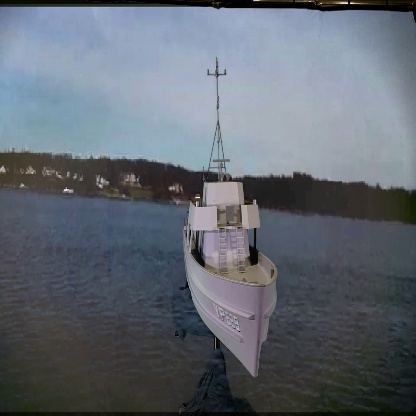YP689: (181, 57, 279, 378)
